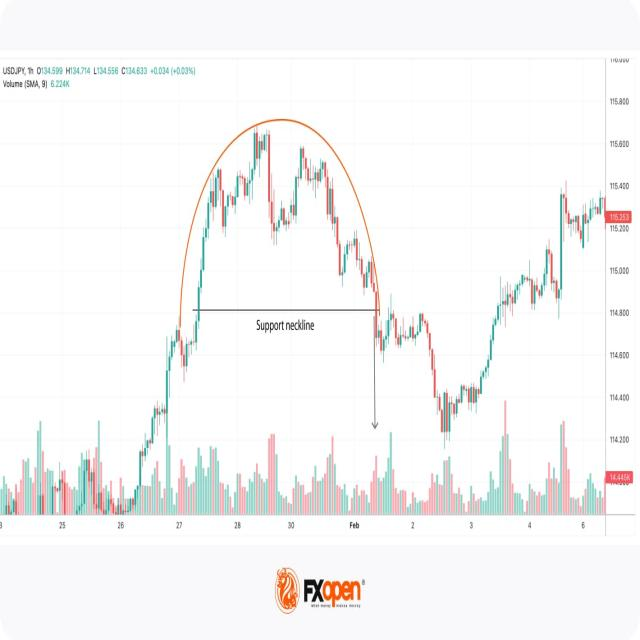Rounding-Top: (174, 113, 392, 299)
